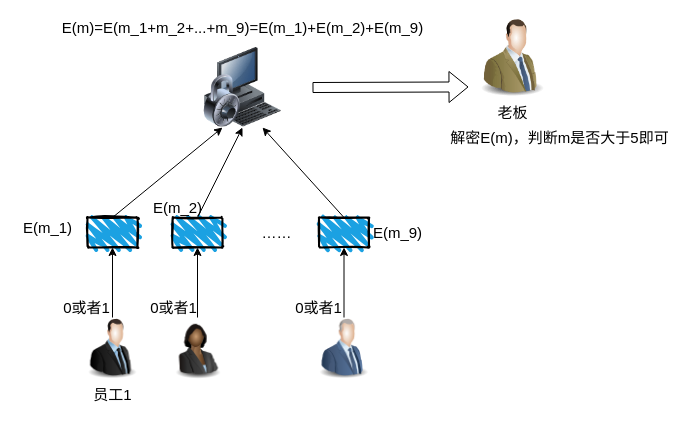
The diagram is 691 pixels wide and 421 high, and some of its shapes have lost their labels. The centre of each missing label's shape, as x and y in pixels:
员工2: pixel 197 348
员工9: pixel 343 348
